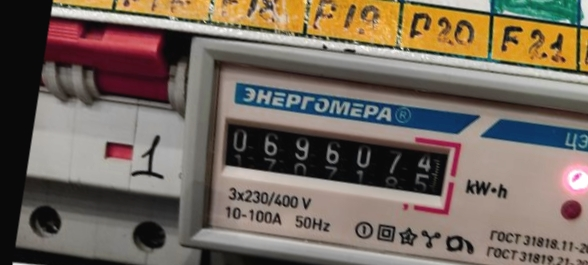0: (228, 125, 250, 152), (353, 141, 373, 169)
4: (415, 149, 432, 172)
5: (412, 171, 429, 192)
6: (259, 128, 281, 156), (322, 136, 342, 165)
7: (384, 147, 403, 175)
9: (291, 133, 311, 162)
screen: (210, 103, 464, 216)
